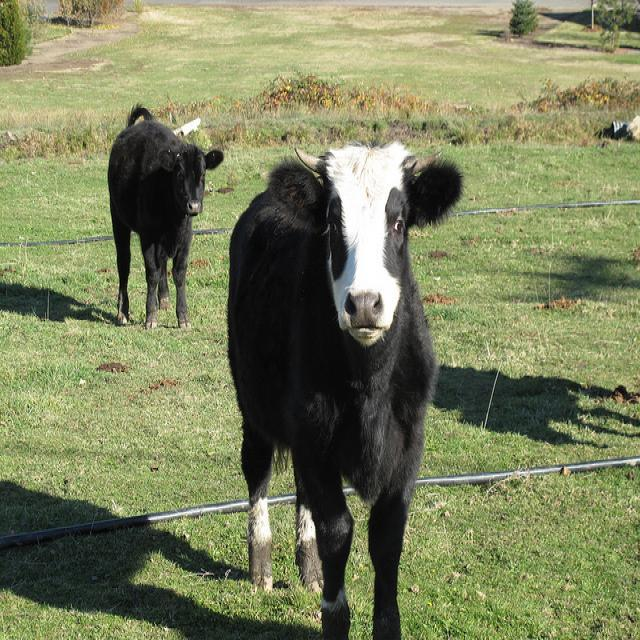cow: (225, 139, 460, 639), (102, 99, 225, 336)
